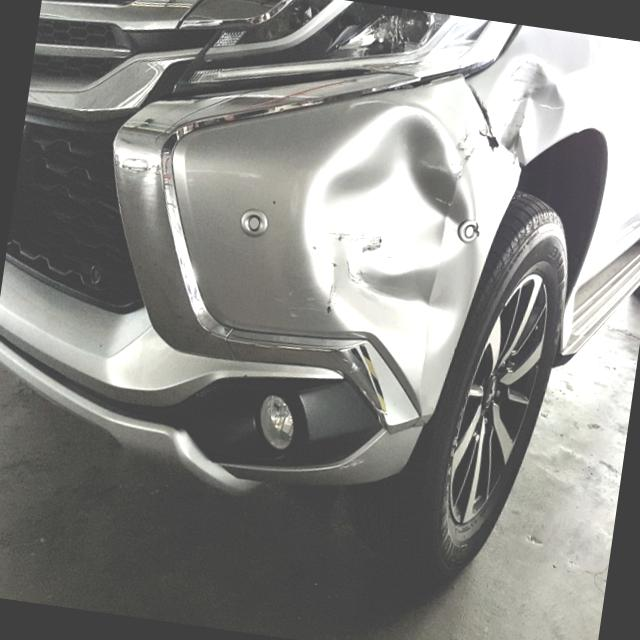Cabossage: (261, 86, 498, 373), (481, 40, 581, 179)
Dechirure: (462, 84, 503, 155)
Rayure: (287, 216, 390, 322)
